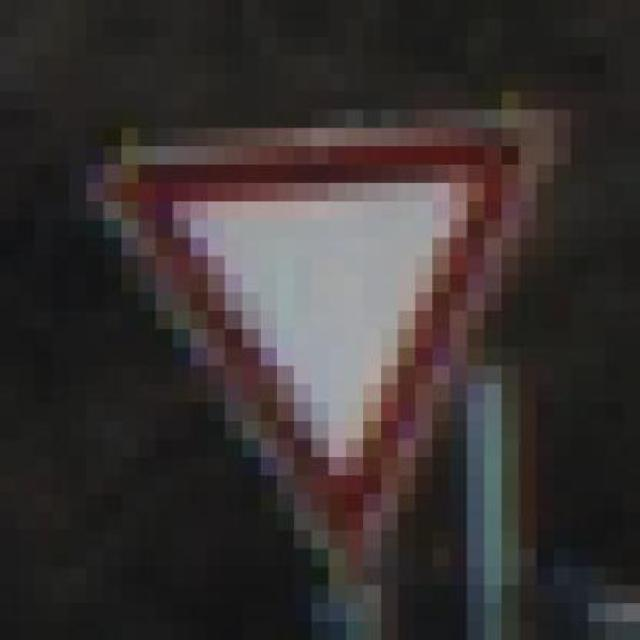Give Way: (67, 52, 568, 600)
